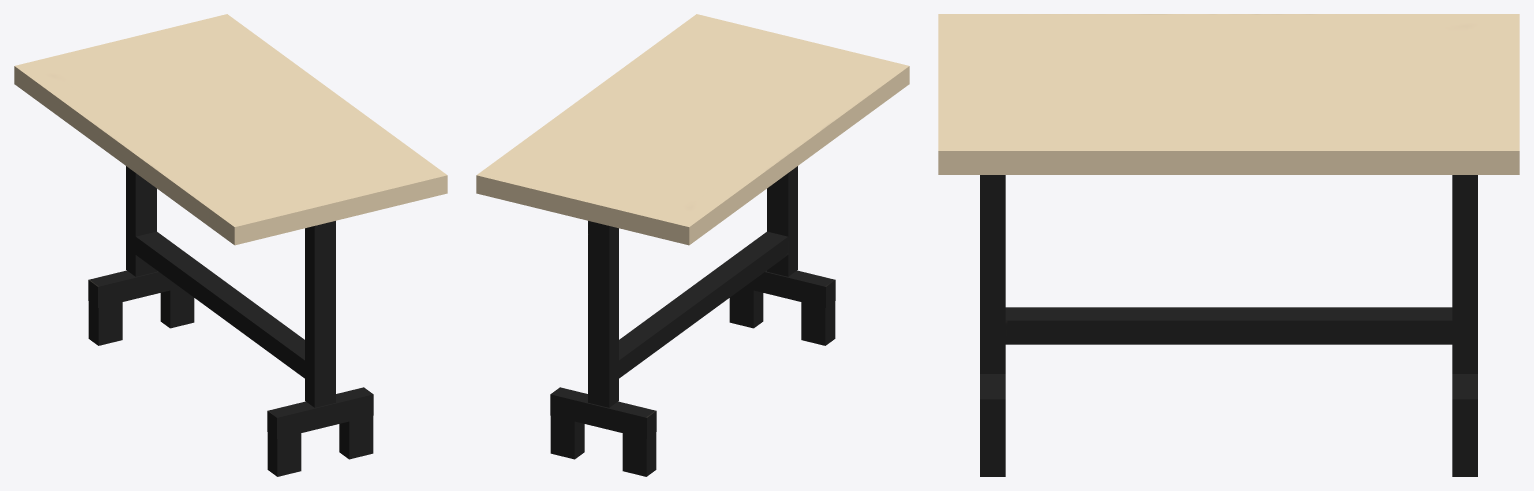
File: Meal_Table.fbx
3 renders of one model, left to right at view 1: azimuth 30°, elevation 25°; view 2: azimuth 150°, elevation 25°; view 3: azimuth 270°, elevation 25°, orthographic. The views are drawn at different scales.
Parts seen in each view (by area): view 1: Cube; view 2: Cube; view 3: Cube.
Part boxes in pixels (x1=…): Cube: x1=14, y1=14, x2=447, y2=476; Cube: x1=476, y1=14, x2=909, y2=476; Cube: x1=938, y1=14, x2=1519, y2=476.
Size of the model in its own units: 472 by 584 by 846.
